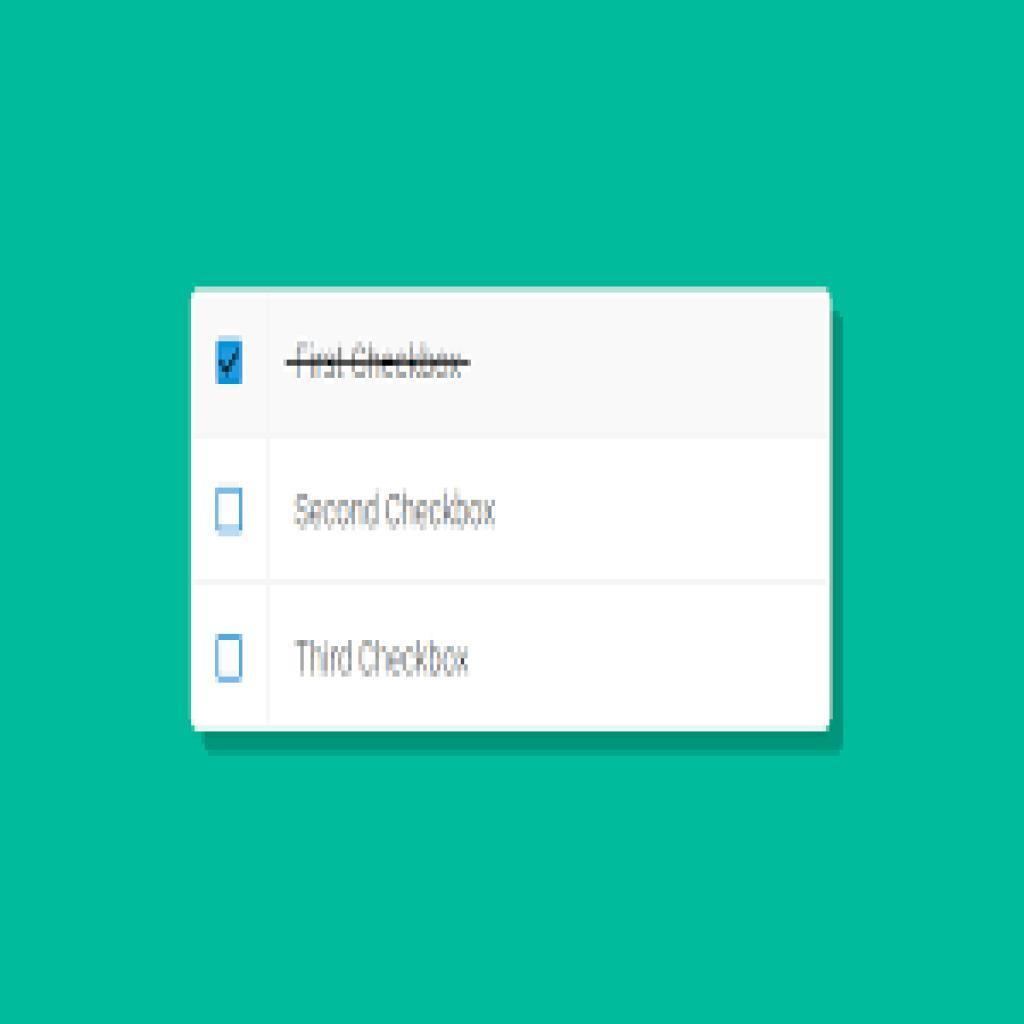checkbox: (217, 340, 246, 383), (215, 637, 244, 678), (216, 492, 244, 528)
label: (284, 334, 475, 386), (294, 487, 501, 534), (290, 634, 475, 684)
